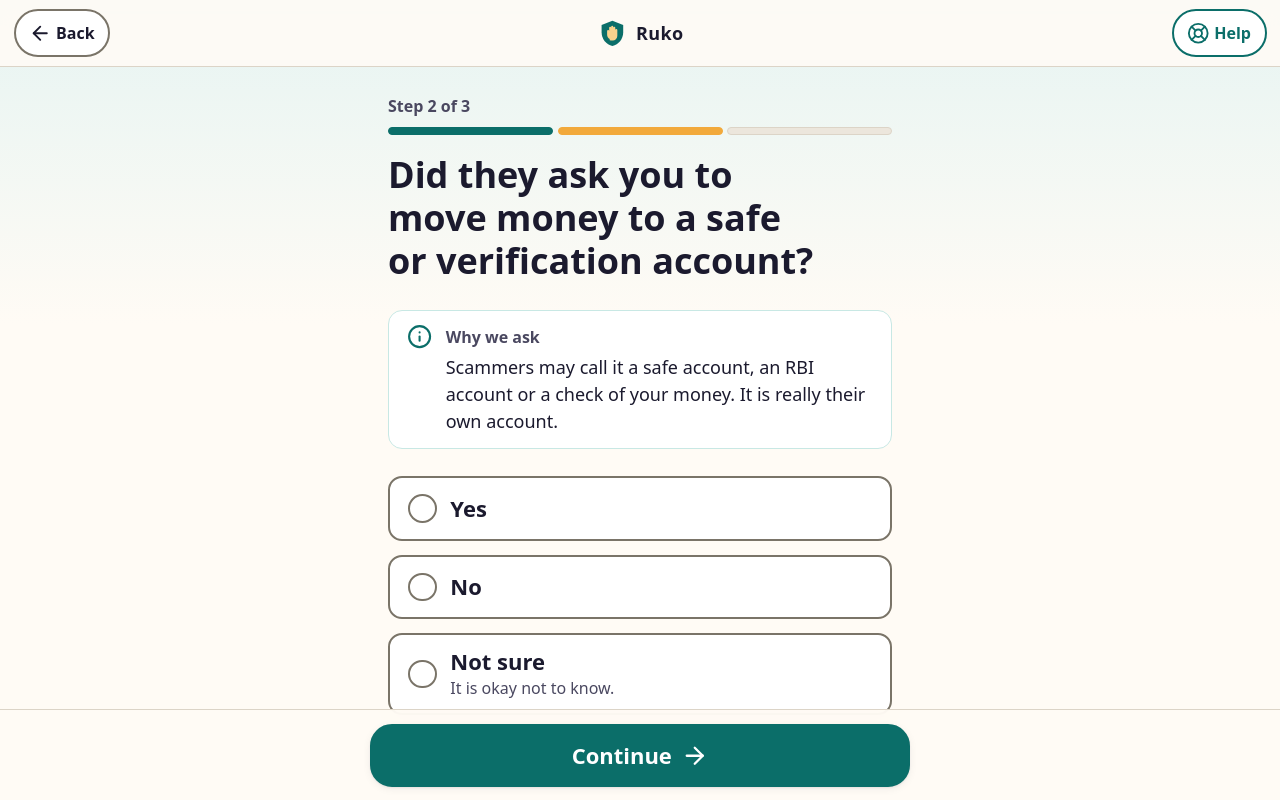
Test case: /check/:step — one question per page › keeps earlier answers when going back
What coordinates should you click on to do the following:
click the link "Back"
I would click on:
 (62, 33)
Its box is 14,9 -> 110,57.
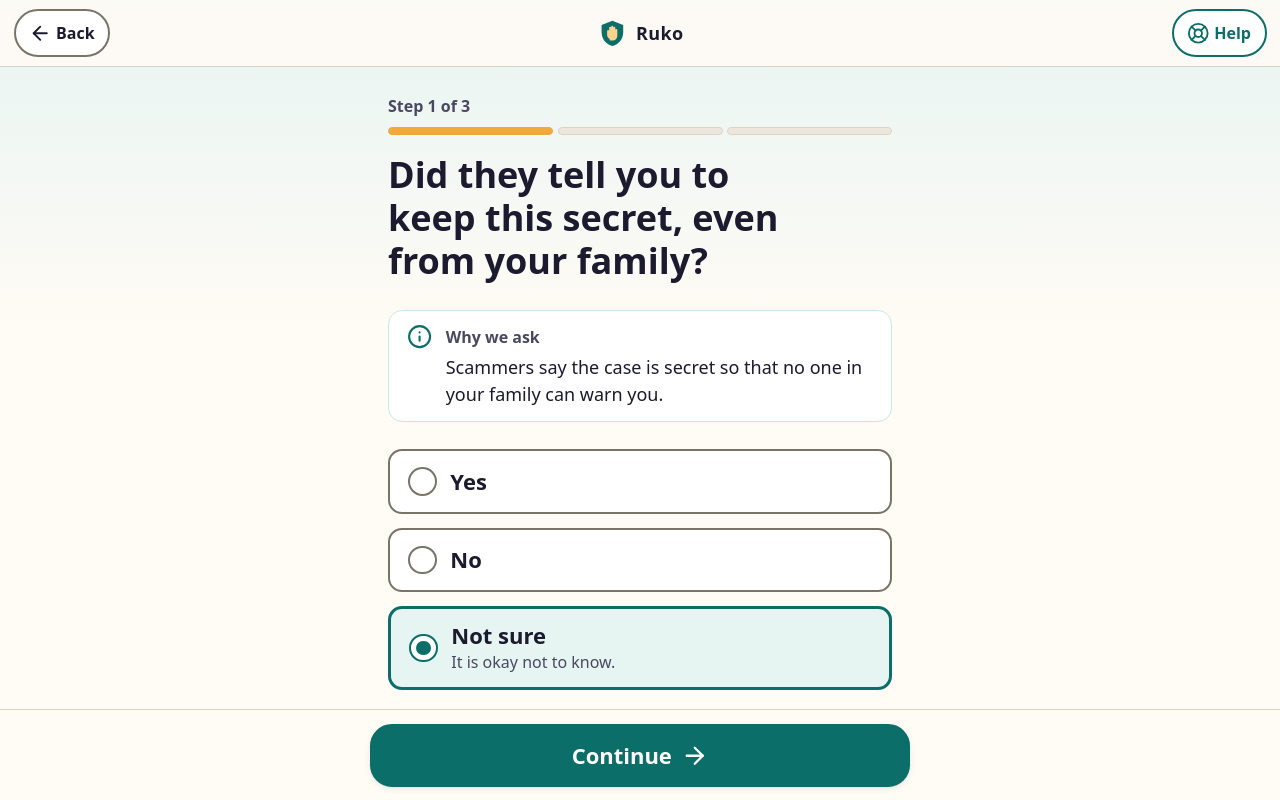
Result: the radio button labelled "Not sure It is okay not to know." is checked at 388,606 -> 892,690
